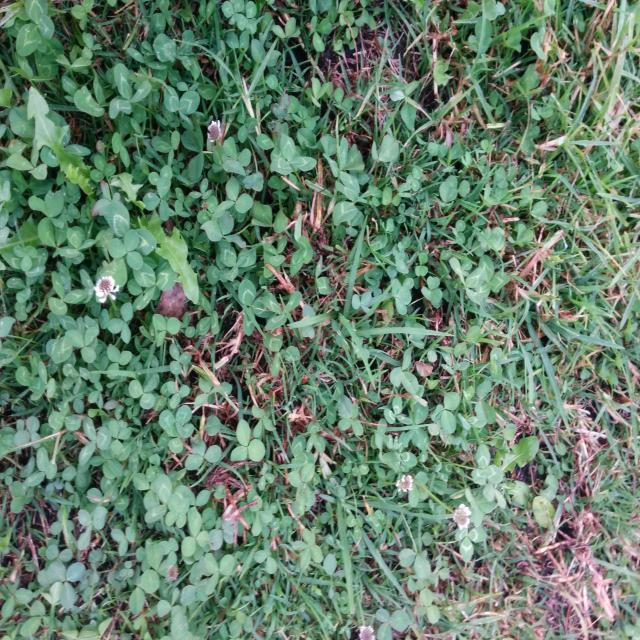Four Leaf Clover: (292, 528, 323, 570)
